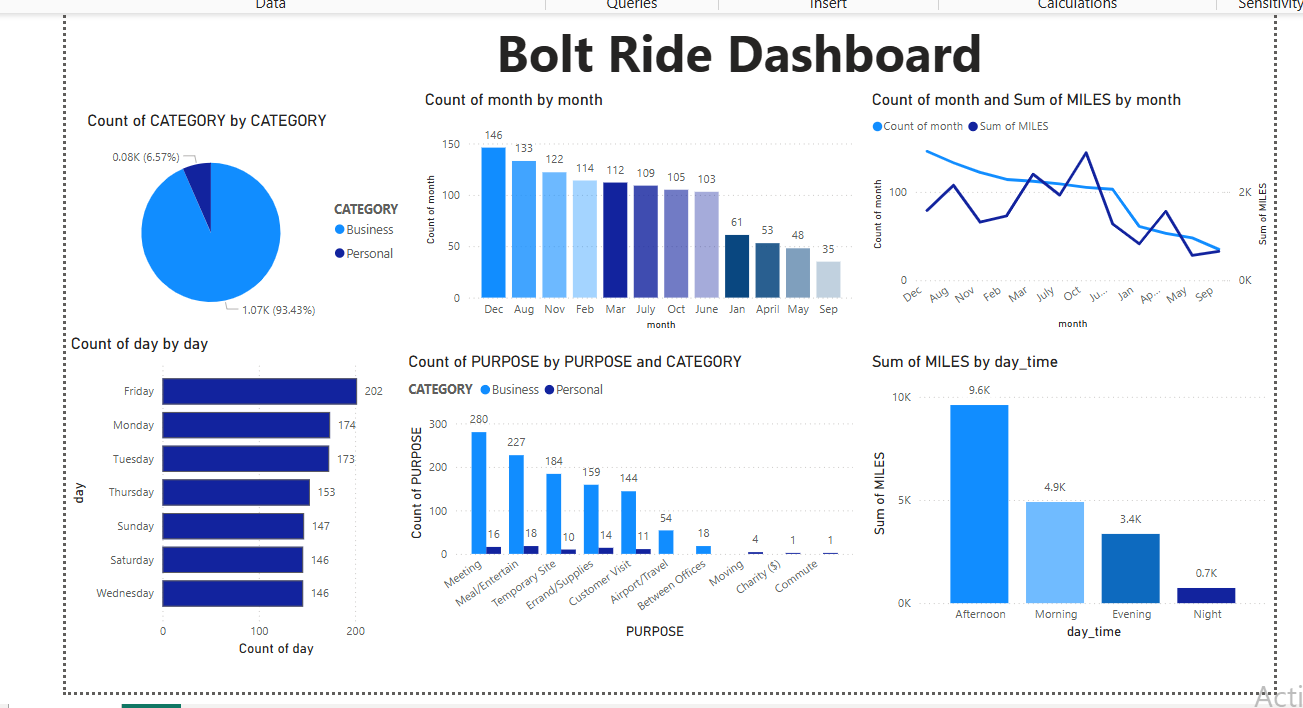

The dashboard page shown, as its layout file describes it:
{"tool":"powerbi","page":{"name":"Page 1","canvas":[1280,720],"ordinal":0},"visuals":[{"type":"pieChart","fields":{"Category":["UberDatasetCleaned.CATEGORY"],"Y":["CountNonNull(UberDatasetCleaned.CATEGORY)"]},"box":[17.1,102.9,358.6,238.6],"z":0},{"type":"barChart","fields":{"Y":["CountNonNull(UberDatasetCleaned.day)"],"Category":["UberDatasetCleaned.day"]},"box":[0,340.3,358.1,345.8],"z":1000},{"type":"columnChart","fields":{"Category":["UberDatasetCleaned.month"],"Y":["CountNonNull(UberDatasetCleaned.month)"]},"box":[376,81,463.8,259.3],"z":2000},{"type":"clusteredColumnChart","fields":{"Category":["UberDatasetCleaned.PURPOSE"],"Y":["CountNonNull(UberDatasetCleaned.PURPOSE)"],"Series":["UberDatasetCleaned.CATEGORY"]},"box":[358.1,359.5,481.6,308.7],"z":3000},{"type":"lineChart","fields":{"Category":["UberDatasetCleaned.month"],"Y":["CountNonNull(UberDatasetCleaned.month)"],"Y2":["Sum(UberDatasetCleaned.MILES)"]},"box":[850,81,430,259],"z":4000},{"type":"lineClusteredColumnComboChart","fields":{"Category":["UberDatasetCleaned.day_time"],"Y":["Sum(UberDatasetCleaned.MILES)"]},"box":[850,360,430,309],"z":5000},{"type":"textbox","box":[392.9,0,642.9,81.4],"z":7000}]}

Visuals, with their boxes on the page's 1280x720 design canvas (x1, y1, x2, y2). These are canvas units, not pixel positions in the 1303x708 screenshot, which may show the page scaled, cropped or inside an application window:
pieChart - UberDatasetCleaned.CATEGORY x CountNonNull(UberDatasetCleaned.CATEGORY): <box>17,103,376,342</box>
barChart - CountNonNull(UberDatasetCleaned.day) x UberDatasetCleaned.day: <box>0,340,358,686</box>
columnChart - UberDatasetCleaned.month x CountNonNull(UberDatasetCleaned.month): <box>376,81,840,340</box>
clusteredColumnChart - UberDatasetCleaned.PURPOSE x CountNonNull(UberDatasetCleaned.PURPOSE): <box>358,360,840,668</box>
lineChart - UberDatasetCleaned.month x CountNonNull(UberDatasetCleaned.month): <box>850,81,1280,340</box>
lineClusteredColumnComboChart - UberDatasetCleaned.day_time x Sum(UberDatasetCleaned.MILES): <box>850,360,1280,669</box>
textbox: <box>393,0,1036,81</box>
